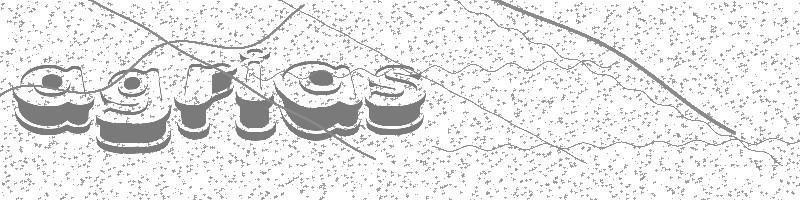a: (275, 58, 365, 141), (12, 59, 95, 135)
g: (96, 65, 172, 154)
i: (236, 46, 279, 143)
r: (174, 58, 237, 143)
s: (363, 61, 428, 136)
